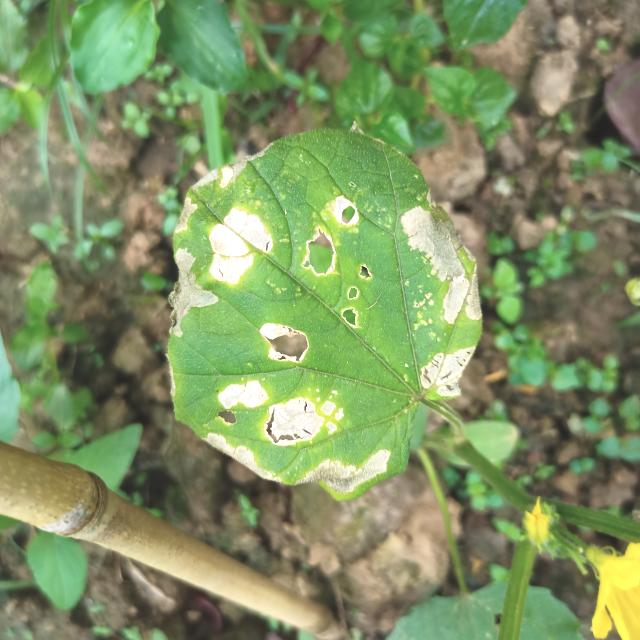disease_cucumber: (156, 145, 337, 374), (334, 184, 488, 402), (172, 372, 394, 500)
